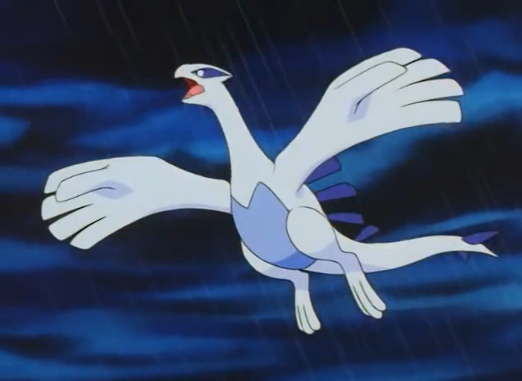lugia: (172, 63, 233, 116)
